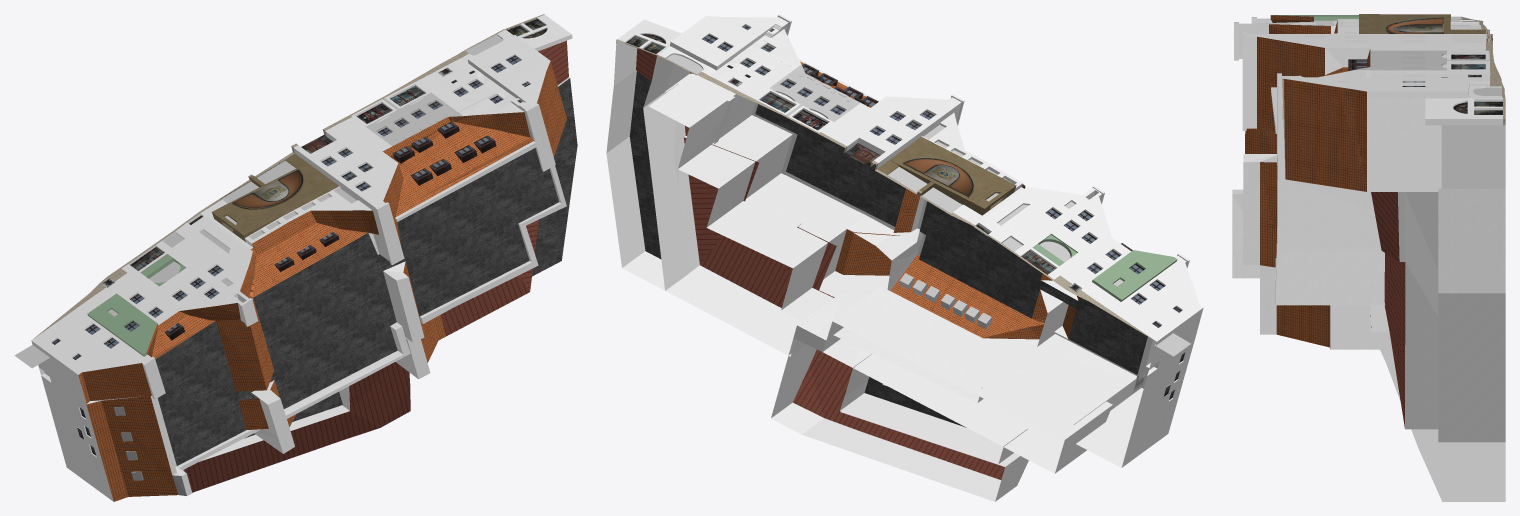
Rendered from Dunkri5_1.obj.
3 renders of one model, left to right at view 1: azimuth 30°, elevation 25°; view 2: azimuth 150°, elevation 25°; view 3: azimuth 270°, elevation 25°, orthographic. The views are drawn at different scales.
Visible parts, largest first — view 1: polySurface30; view 2: polySurface30; view 3: polySurface30.
Boxes of the visible parts, x1,y1,x2,y2 form: polySurface30: (14,14,577,501); polySurface30: (606,14,1203,501); polySurface30: (1232,14,1505,501).
Bounding box in the file's own units: 71.96 × 46.07 × 21.39.
